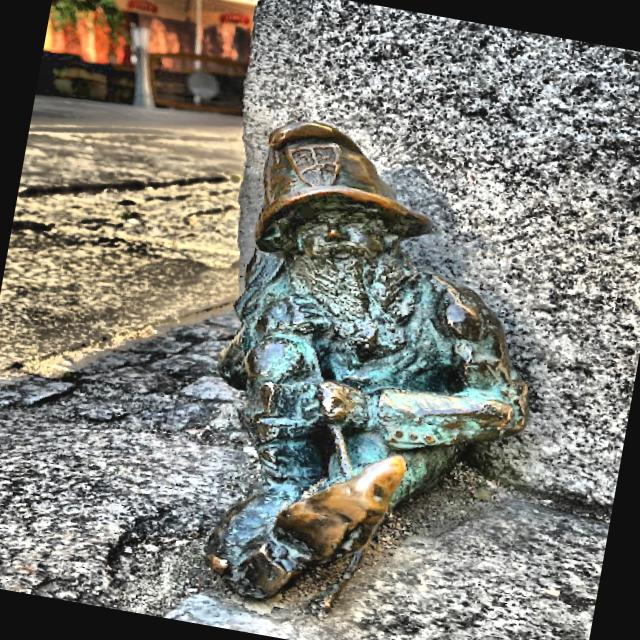Spioch: (204, 122, 528, 598)
